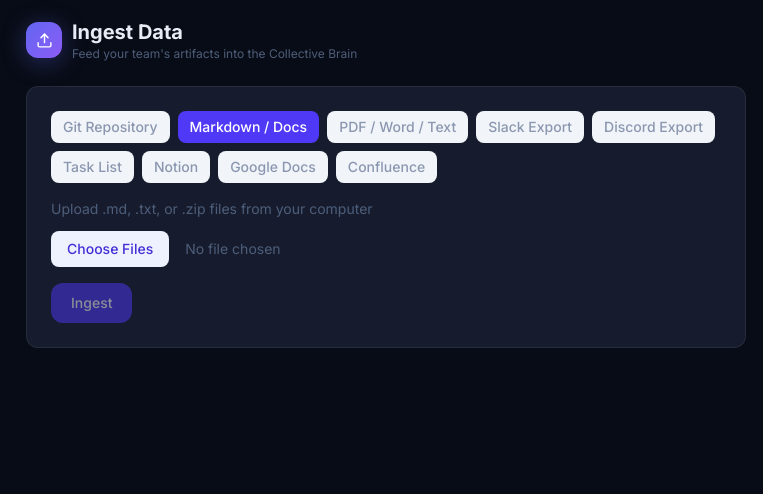
Scenario: IngestPage › shows completed ingestion job in recent ingestions
Click the button "Git Repository" at (110, 127), box 51,111 -> 170,143
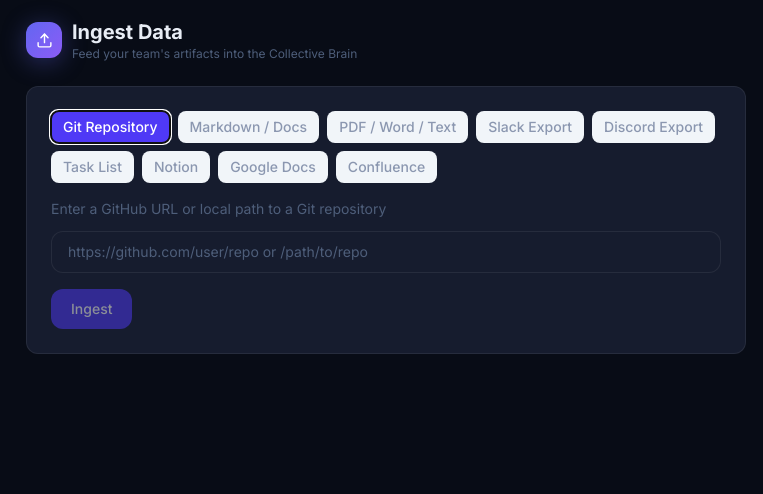
Type "https://github.com/test/repo" into the field with placeholder "https://github.com/user/repo or /path/to/repo" at (386, 252), box 51,231 -> 721,273
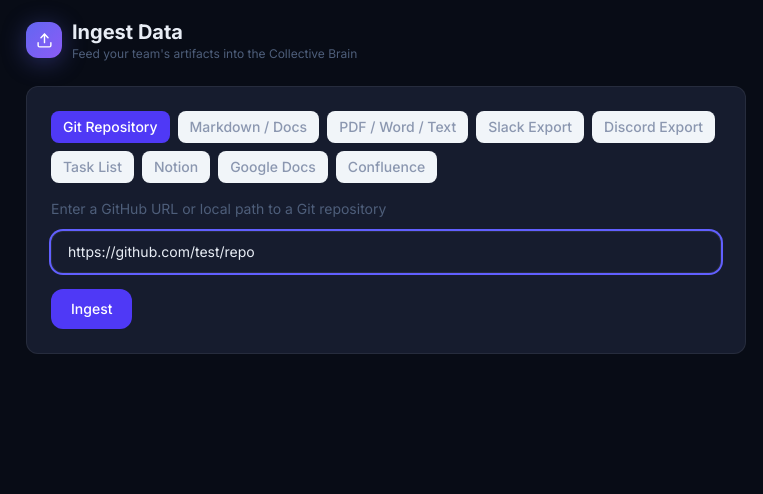
Click the button "Ingest" at (92, 309), box 51,289 -> 132,329
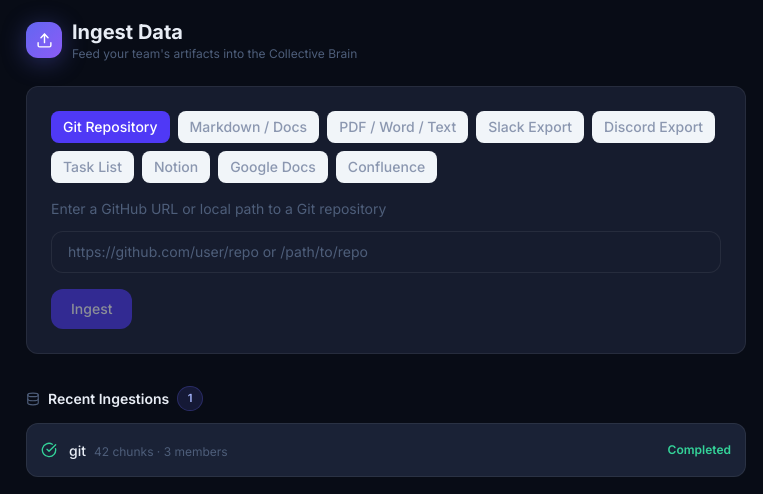
expect the heading "Recent Ingestions" is shown: met, box 48,389 -> 169,409
expect the text "completed" is shown: met, box 668,442 -> 731,458
expect the text "42 chunks · 3 members" is shown: met, box 94,444 -> 228,459
